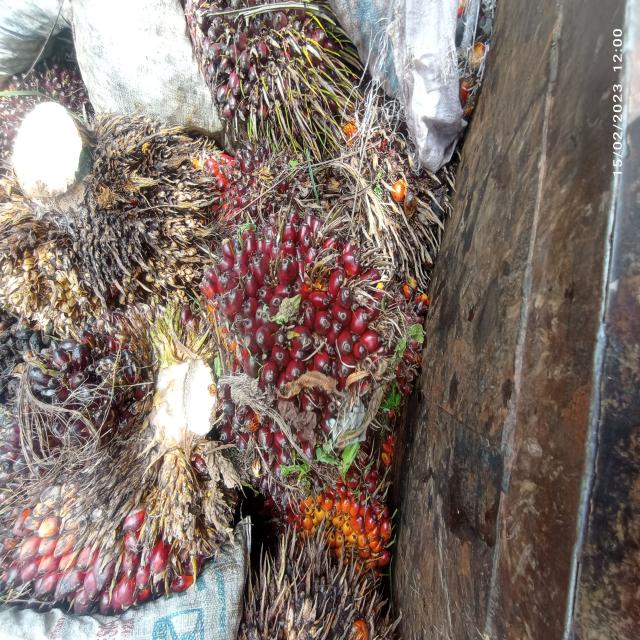fraksi 00: (0, 315, 248, 640)
fraksi 1: (186, 120, 412, 523)
fraksi 4: (278, 456, 406, 595)
